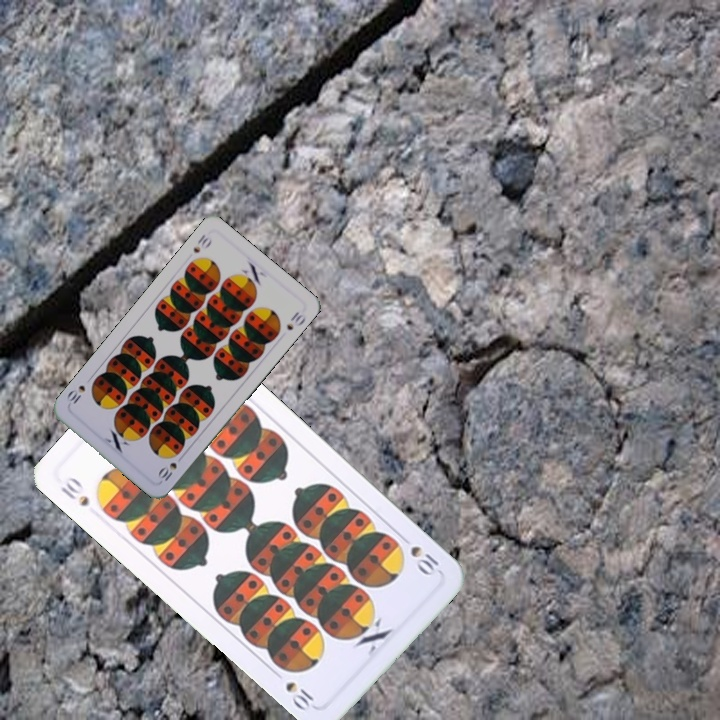S10: (395, 530, 444, 579), (56, 472, 92, 509), (153, 451, 187, 484), (189, 230, 214, 256)
